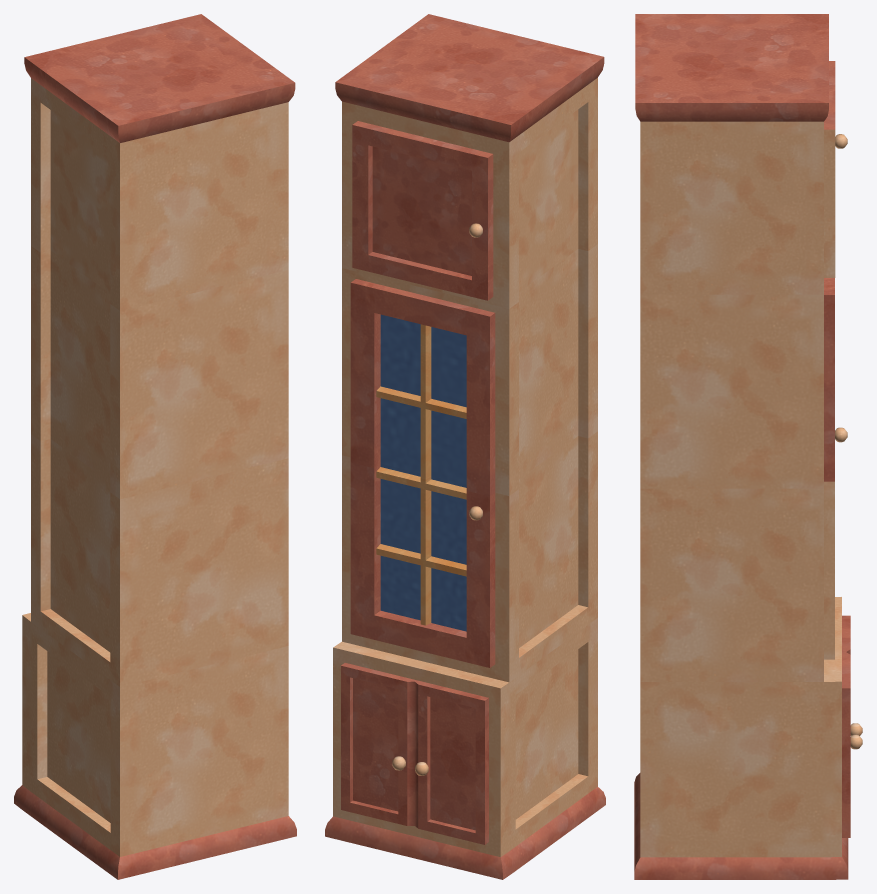
Rendered from SM_Dresser_High.fbx.
3 renders of one model, left to right at view 1: azimuth 30°, elevation 25°; view 2: azimuth 150°, elevation 25°; view 3: azimuth 270°, elevation 25°, orthographic. The views are drawn at different scales.
Visible parts, largest first — view 1: SM_Dresser_High; view 2: SM_Dresser_High; view 3: SM_Dresser_High.
Part boxes in pixels (x1,y1,x2,y2): SM_Dresser_High: (14,14,296,879); SM_Dresser_High: (325,14,605,879); SM_Dresser_High: (634,14,862,879).
Size of the model in its own units: 99.39 by 400 by 107.
